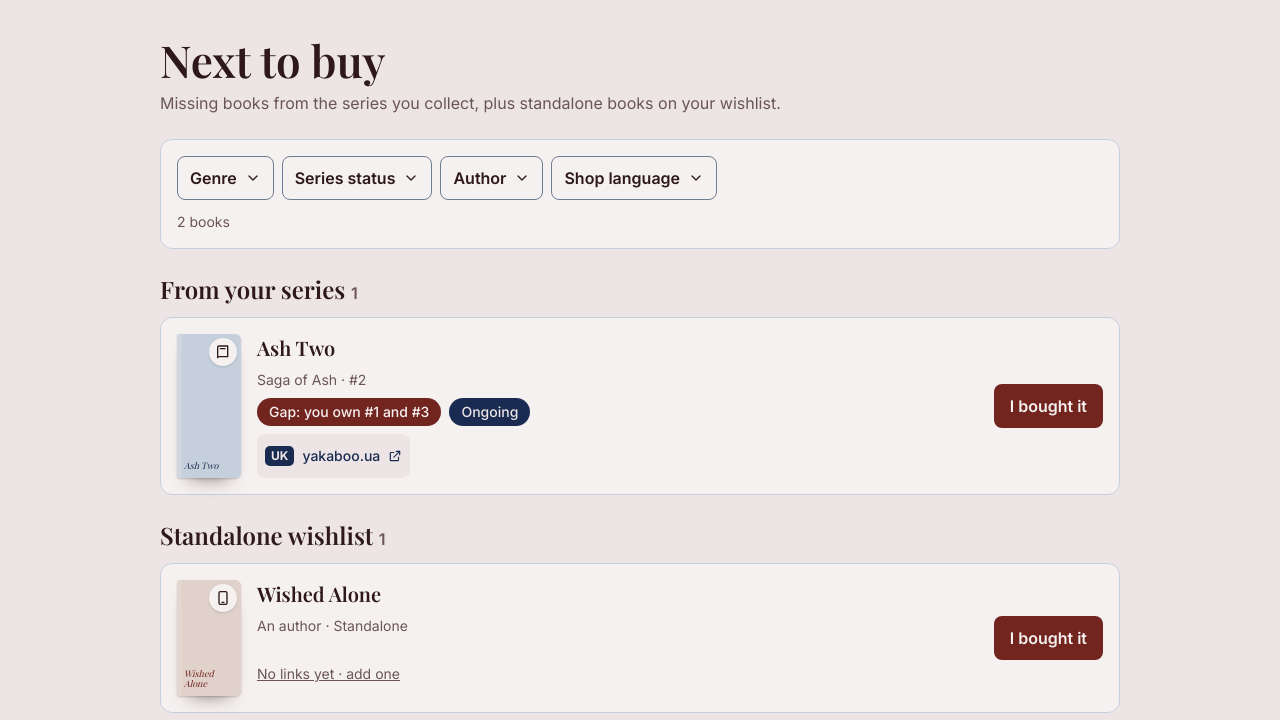
it: NextToBuy › narrows the list in the browser when you apply a filter, without asking the server again
The image size is (1280, 720).
Expected: the link "Ash Two" is shown, x1=257 y1=334 x2=335 y2=361
Expected: the link "Wished Alone" is shown, x1=257 y1=580 x2=381 y2=607
Click the button "Shop language".
click(634, 178)  # box x1=552 y1=156 x2=717 y2=200
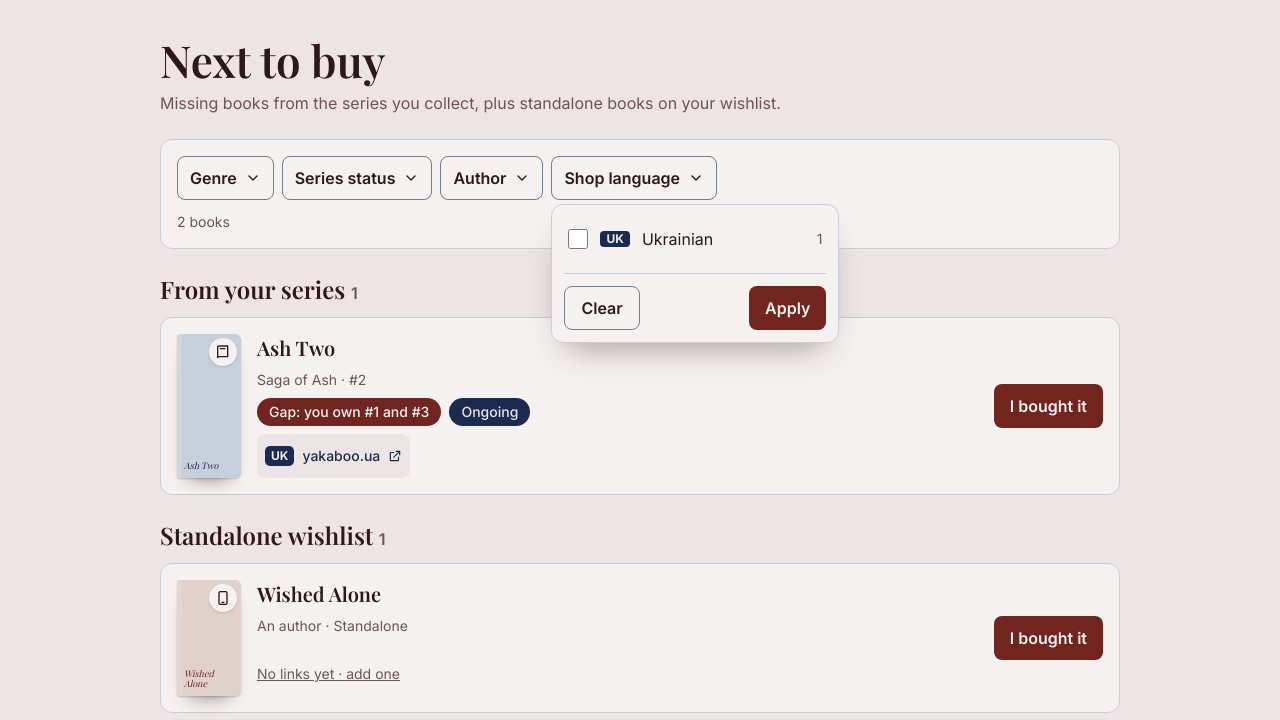
Click the checkbox labelled "UK Ukrainian 1".
click(578, 239)  # box x1=568 y1=229 x2=588 y2=249
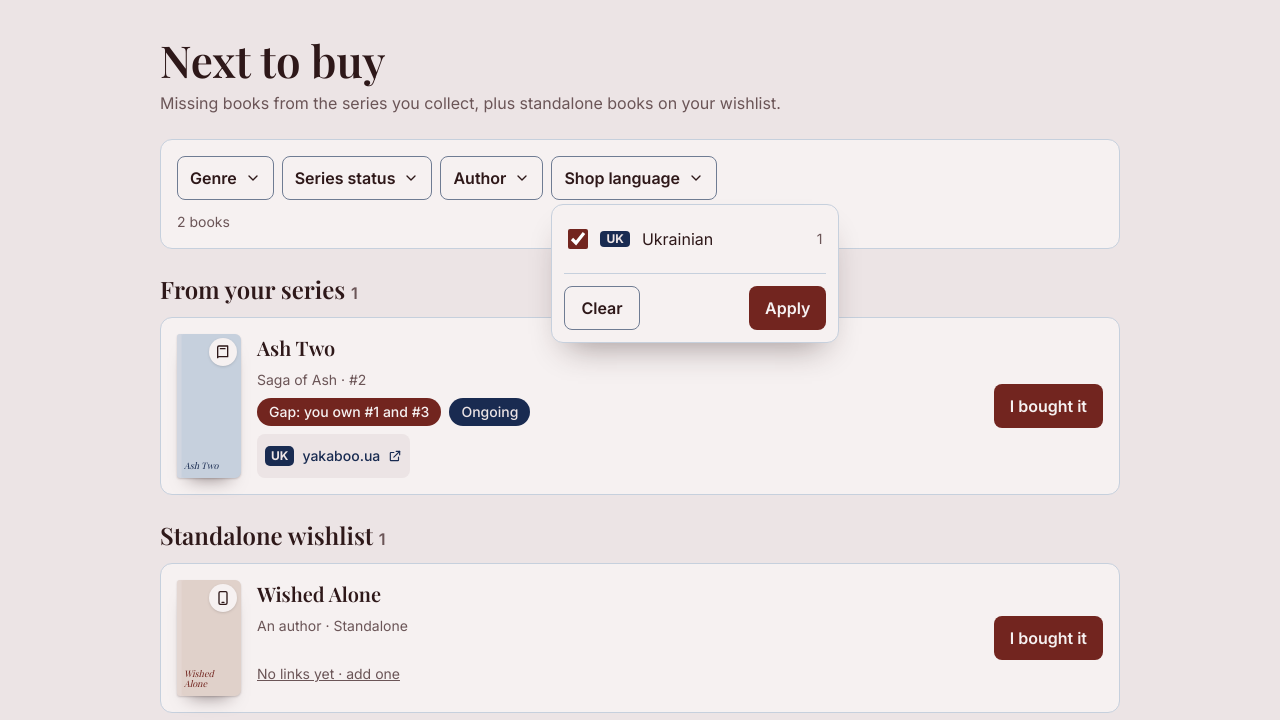
Click the button "Apply".
click(788, 308)  # box x1=749 y1=286 x2=826 y2=330
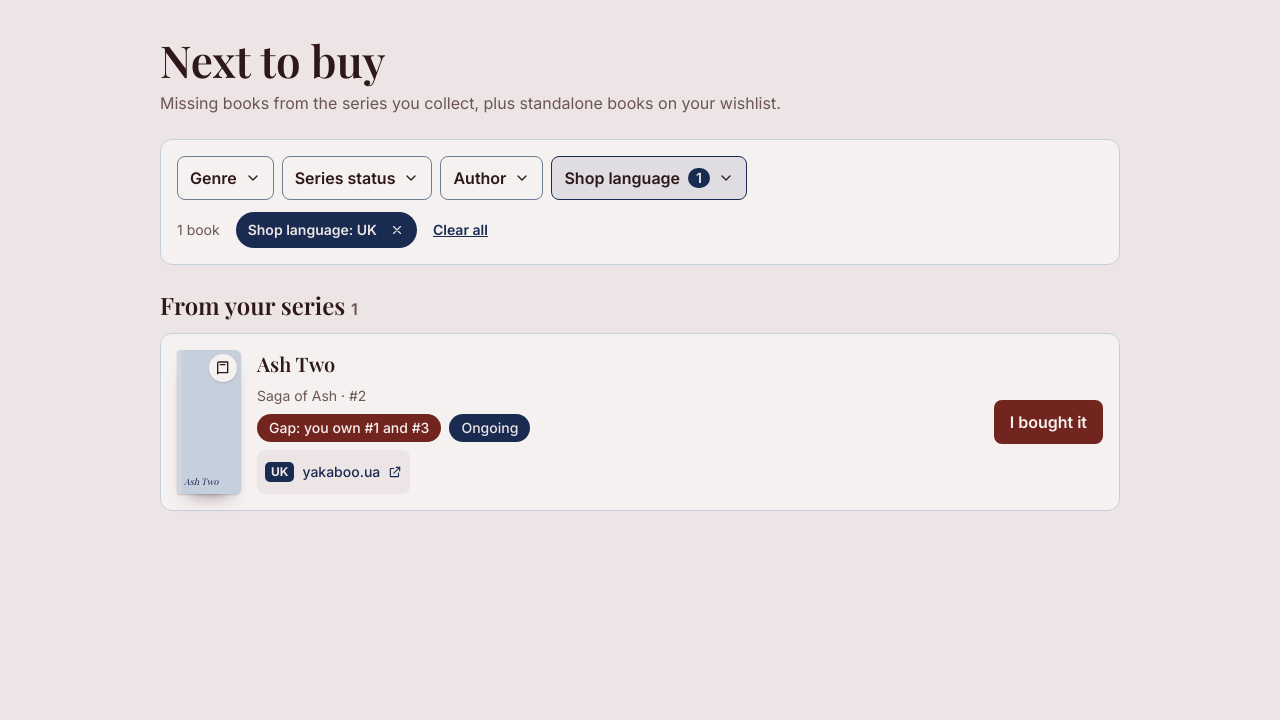
Expected: the link "Ash Two" is shown, x1=257 y1=350 x2=335 y2=377
Expected: the text "Wished Alone" is gone
Expected: the text "1 book" is shown, x1=177 y1=220 x2=220 y2=240
